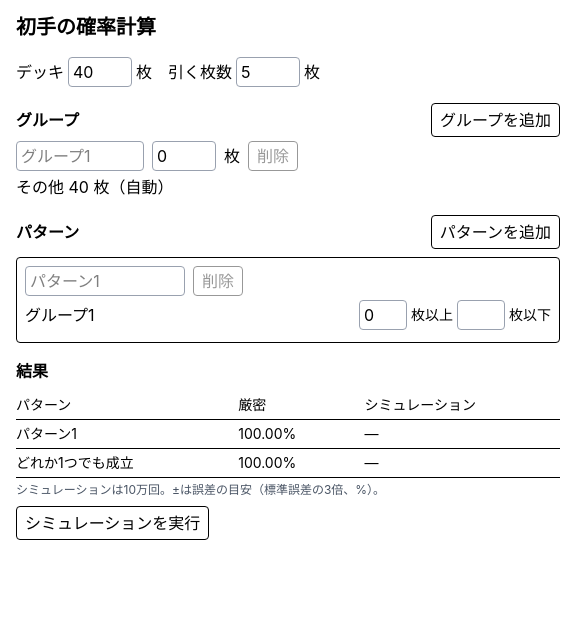
it: グループを追加すると、パターンにも行が増える
The width and height of the screenshot is (577, 633).
What coordinates should you click on to do the following:
click the button "グループを追加"
I would click on:
 (496, 120)
Its box is [431, 103, 560, 137].
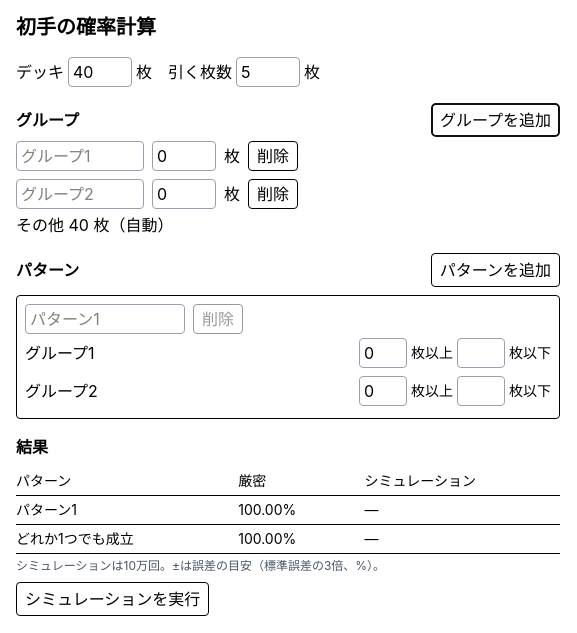
expect the number field named "パターン1：グループ2の最小" holds "0": met, box [359, 376, 407, 406]
